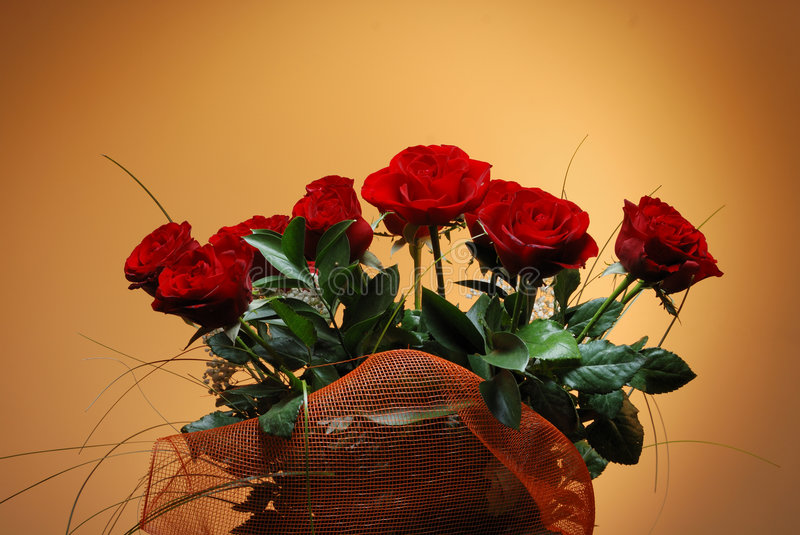RedRose: (474, 171, 617, 276), (364, 133, 488, 234), (610, 184, 725, 292), (159, 240, 252, 331), (117, 216, 203, 299), (296, 169, 368, 265), (210, 207, 293, 267)
